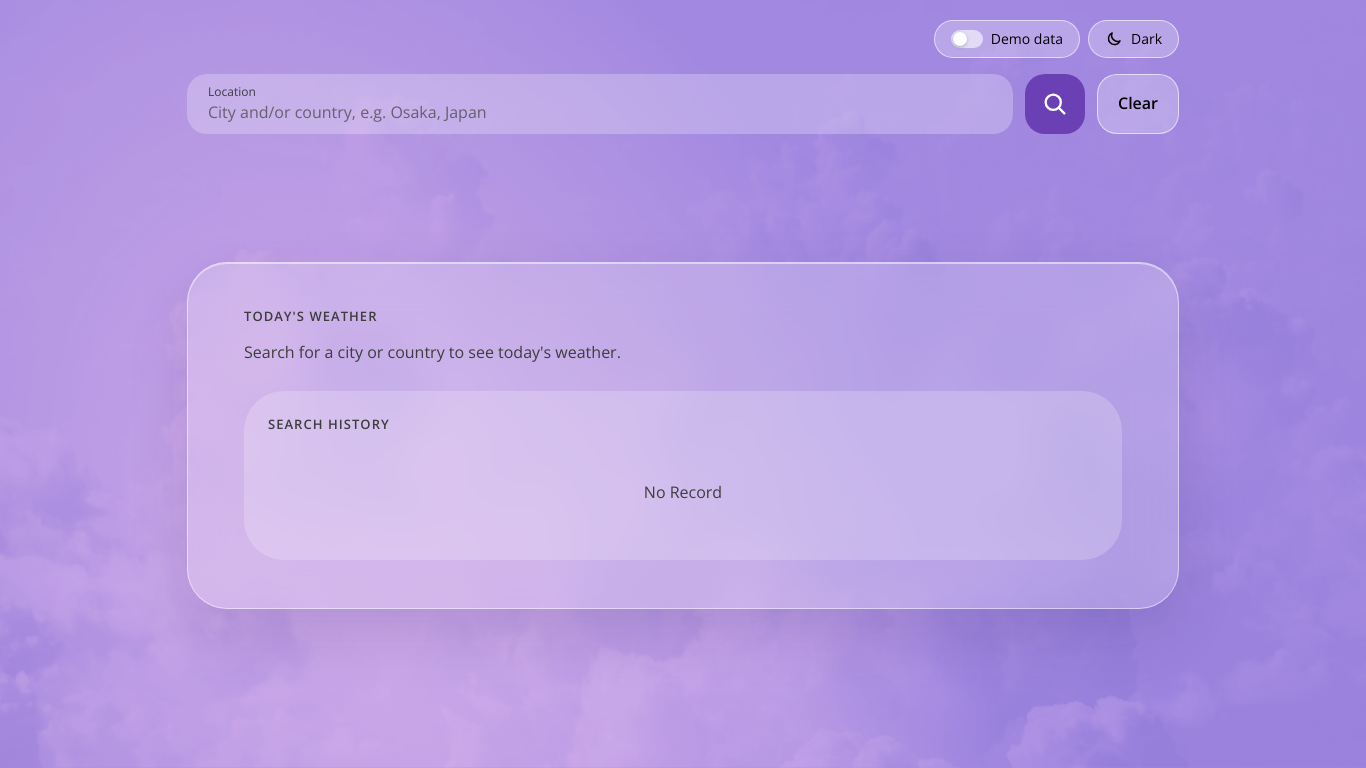
Scenario: App › asks for input when searching with an empty box
What coordinates should you click on to do the following:
click the button named "Search"
I would click on:
 (1055, 104)
Its box is left=1025, top=74, right=1085, bottom=134.
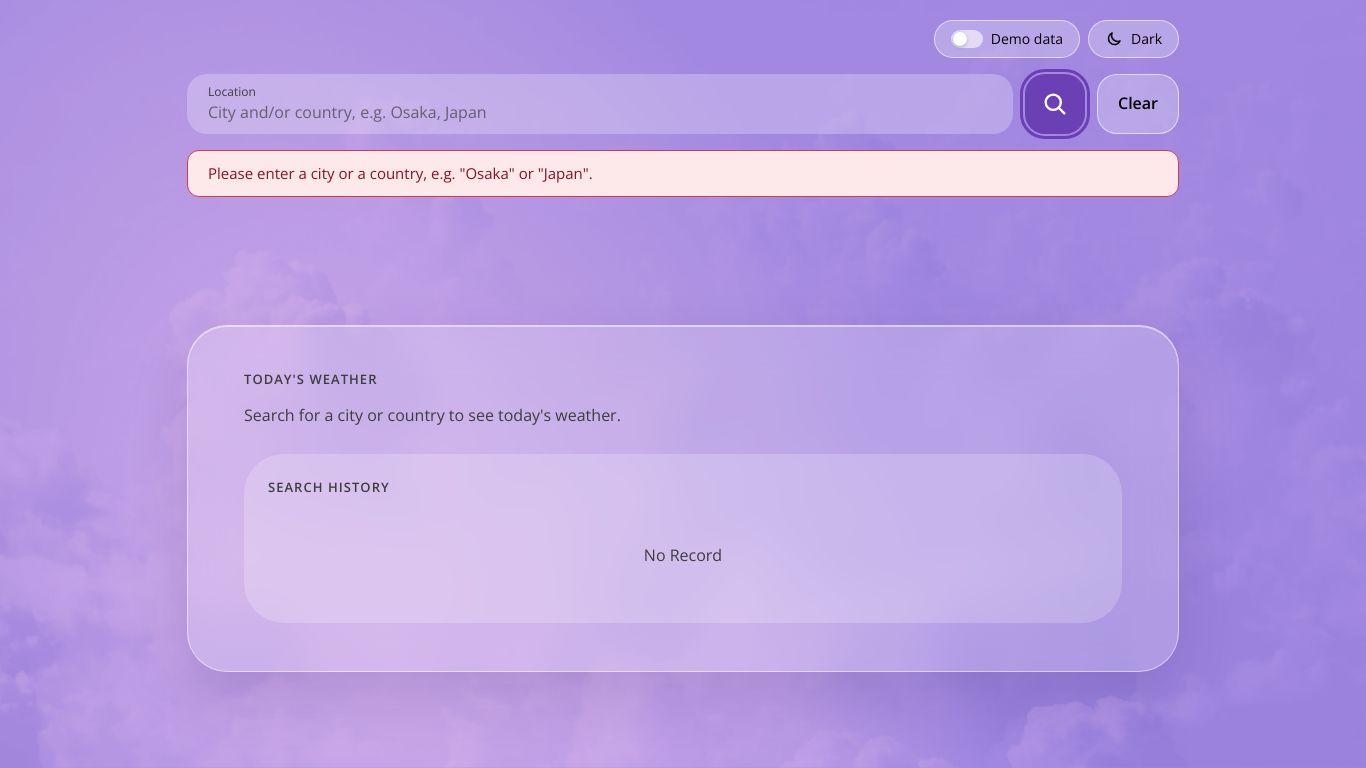
Expected: the message shows "Please enter a city or a country", left=208, top=163, right=593, bottom=183
